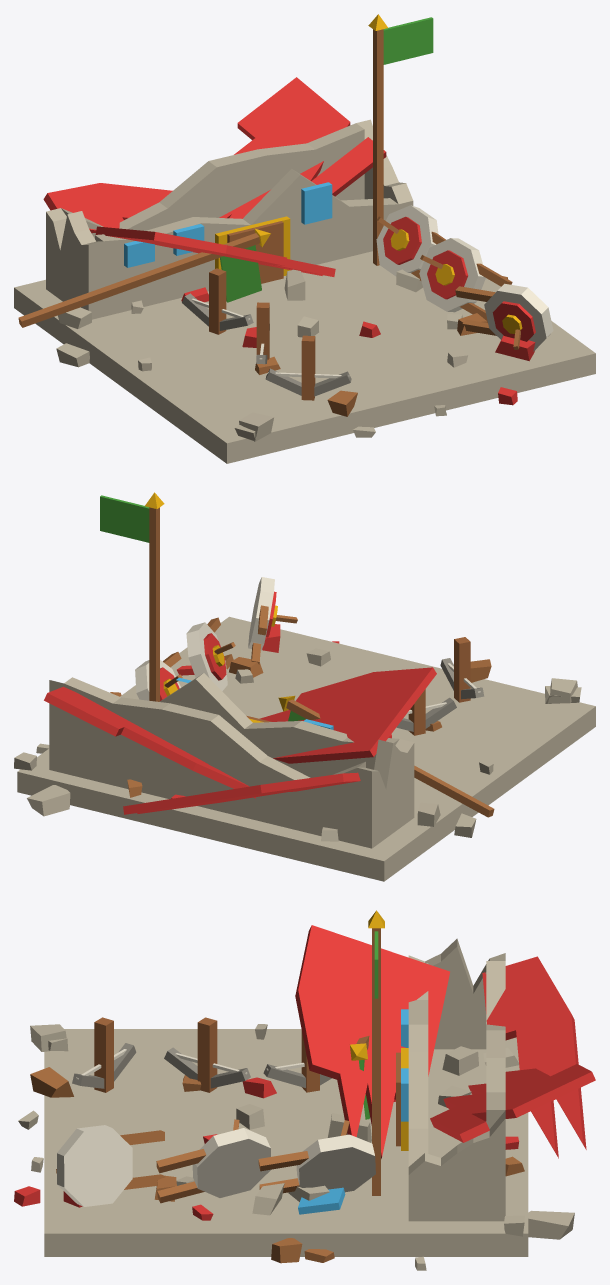
File: archery_range_t3_v1_dmg2.glb
3 views of the same model, one above another, from view 1: azimuth 30°, elevation 25°; view 2: azimuth 150°, elevation 25°; view 3: azimuth 270°, elevation 25° (orthographic). The views are drawn at different scales.
Parts seen in each view (by area): view 1: archery_range_t3_v1_dmg2; view 2: archery_range_t3_v1_dmg2; view 3: archery_range_t3_v1_dmg2.
Part boxes in pixels (bbox=[...]): archery_range_t3_v1_dmg2: bbox=[14, 14, 595, 463]; archery_range_t3_v1_dmg2: bbox=[14, 492, 595, 881]; archery_range_t3_v1_dmg2: bbox=[14, 910, 595, 1270].
Size of the model in its own units: 0.9075 by 0.525 by 0.9018.
1 material, 1 textured.
